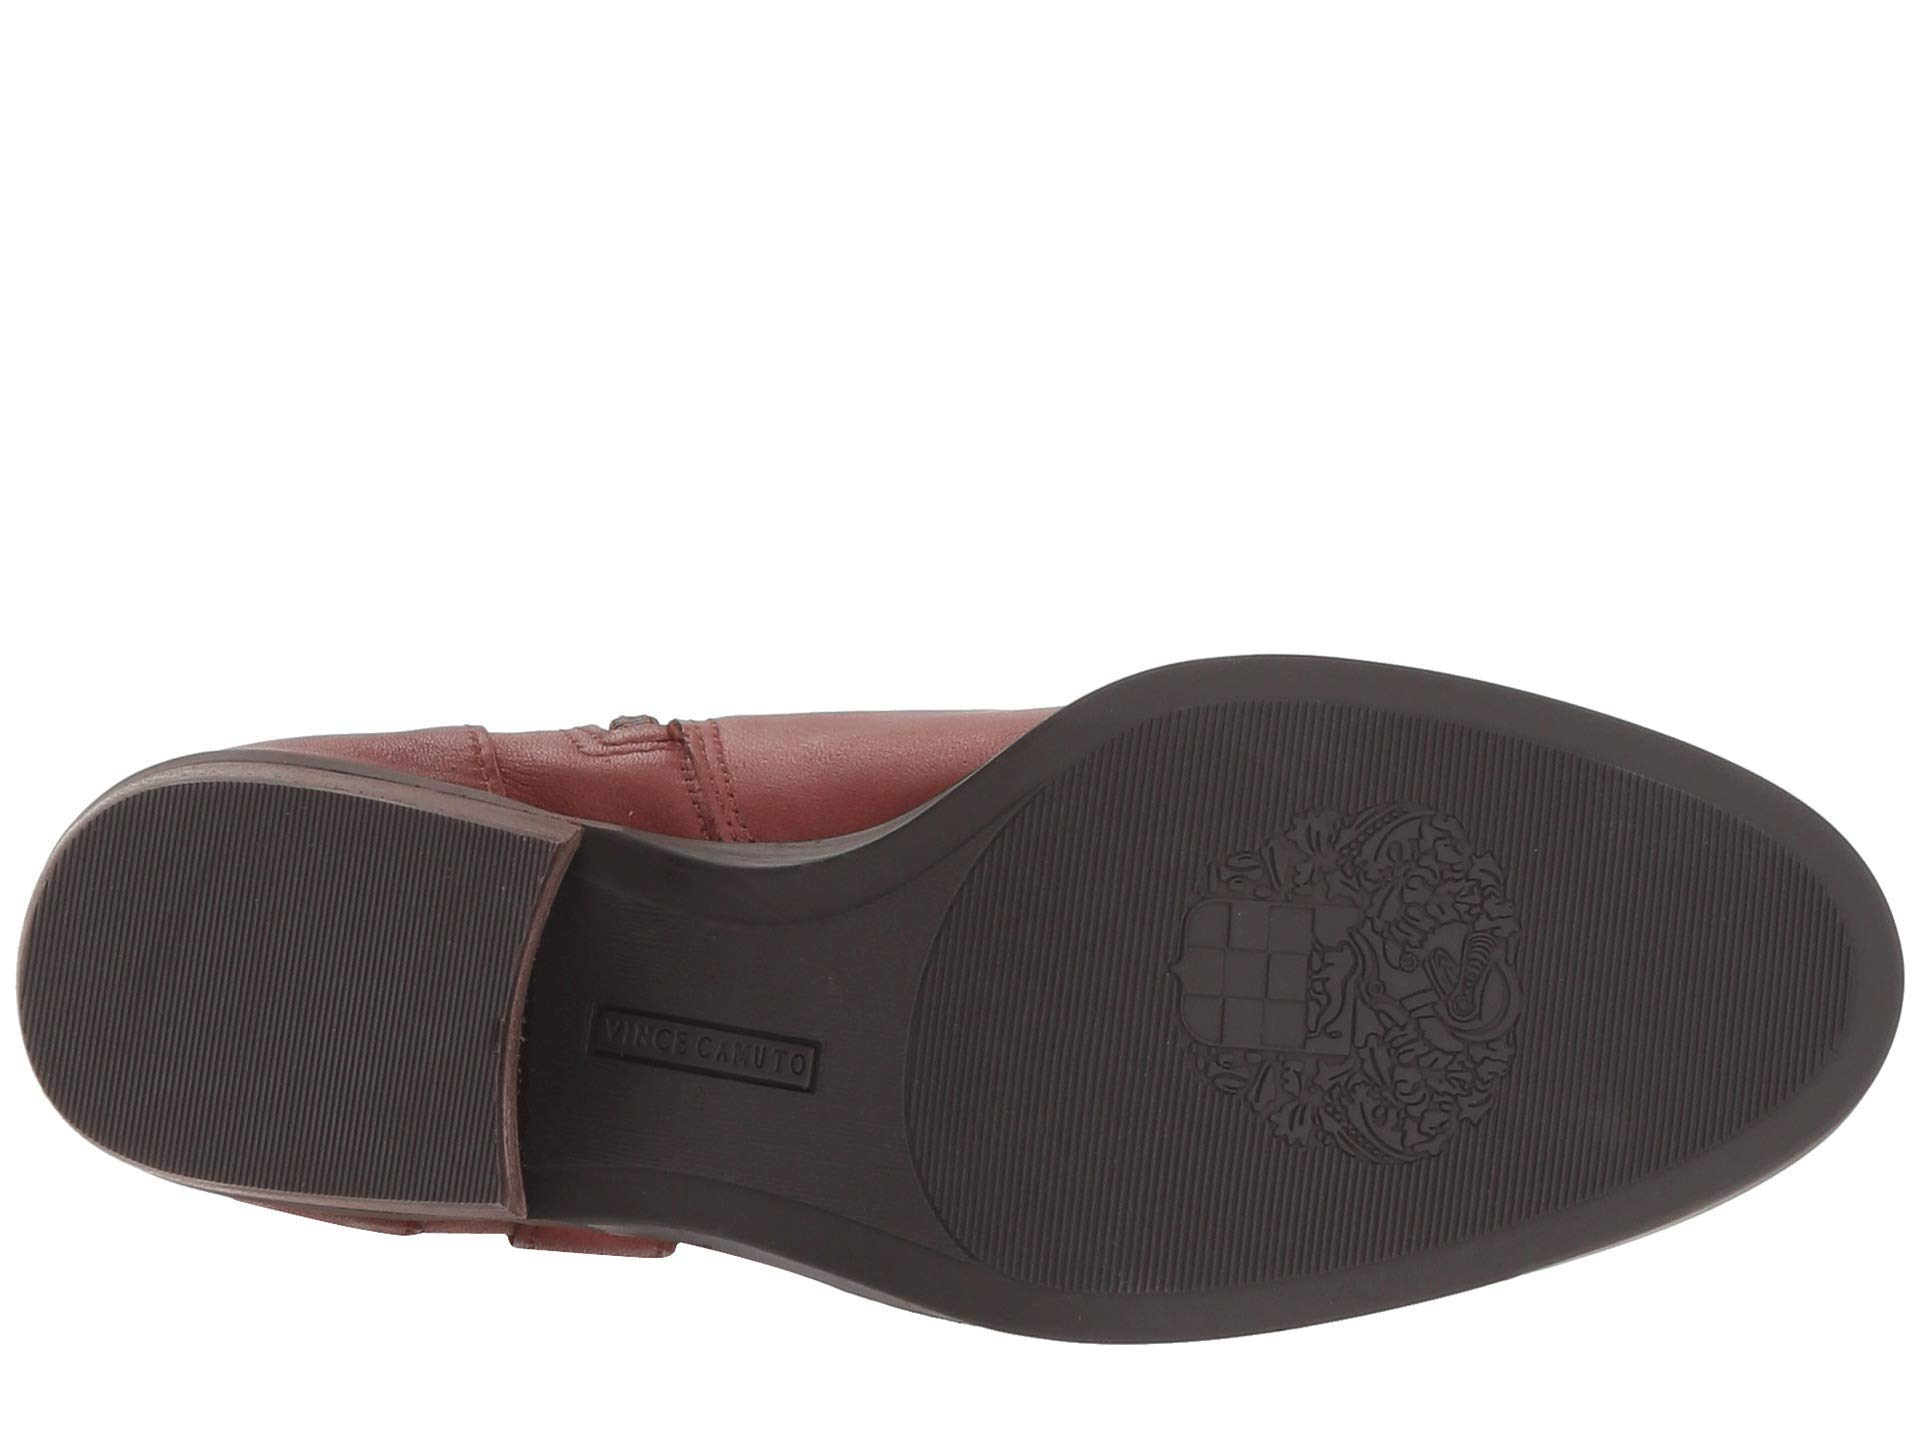circle: (567, 976, 822, 1110)
line: (1099, 759, 1565, 1181), (144, 820, 451, 1133)
other: (1099, 759, 1565, 1181)
quad: (1099, 759, 1565, 1181), (567, 976, 822, 1110)
text: (567, 976, 822, 1110)
